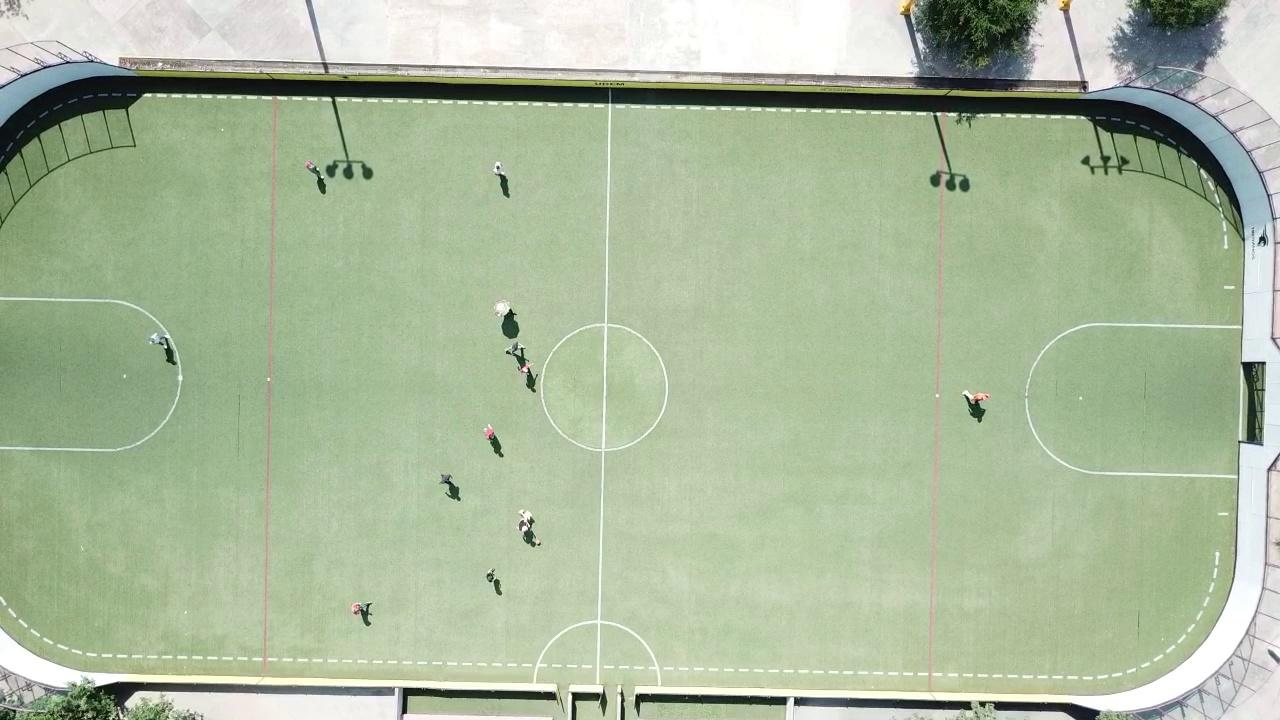ball: (534, 539, 542, 547)
player: (305, 160, 326, 180), (517, 509, 534, 531), (962, 388, 988, 402), (493, 160, 508, 182), (493, 300, 511, 317), (149, 332, 168, 348), (505, 340, 521, 356), (483, 424, 495, 441), (439, 474, 454, 486), (485, 568, 496, 583), (519, 363, 532, 375), (351, 602, 362, 615)
